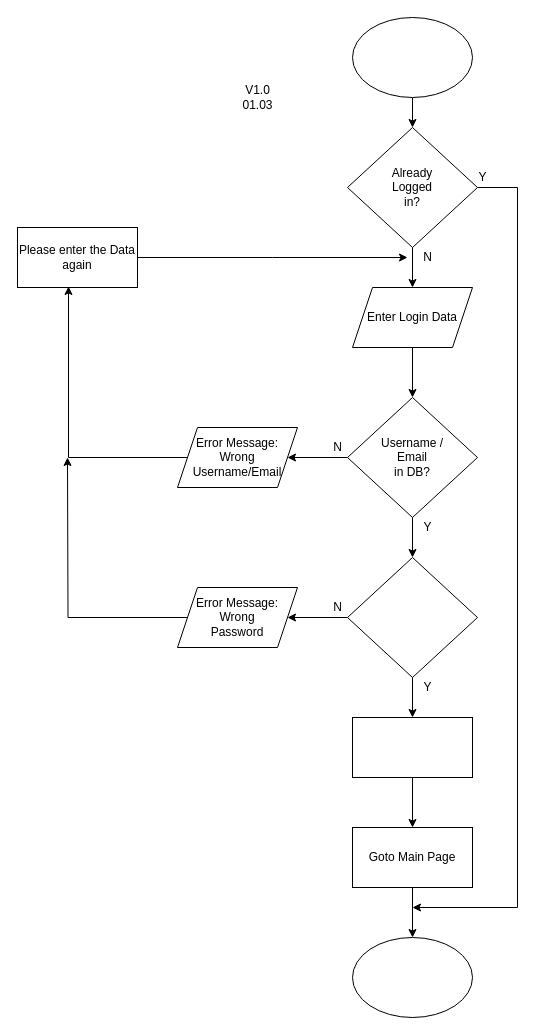
Image size: 543x1035. Some labels were removed from this diagram. Here are the shapes that lost their labels. From the top down, the centre of each, then its label:
(x=412, y=57): START
(x=412, y=617): Correct Password?
(x=412, y=747): Login Succesfull
(x=412, y=977): END
